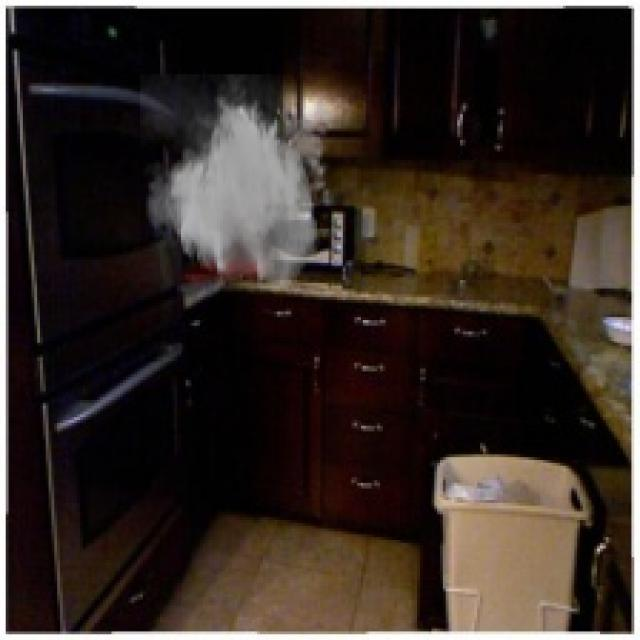Smoke: (140, 74, 340, 294)
